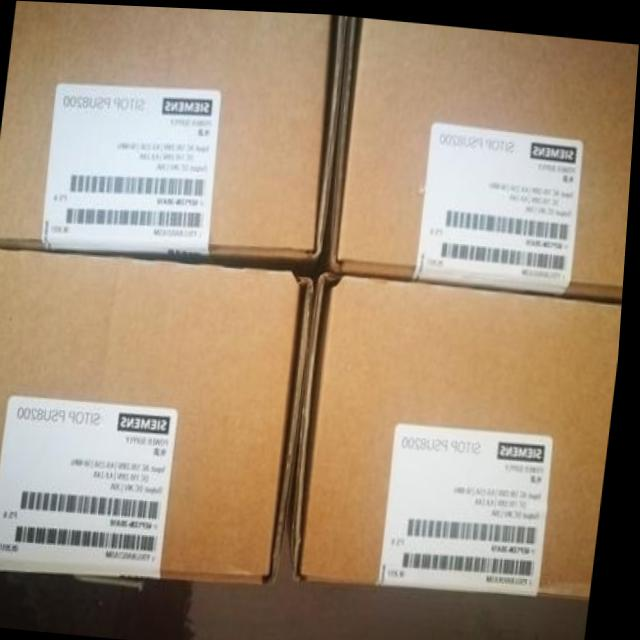box: (293, 266, 626, 593), (0, 245, 319, 586), (0, 1, 351, 270), (336, 13, 639, 295)
